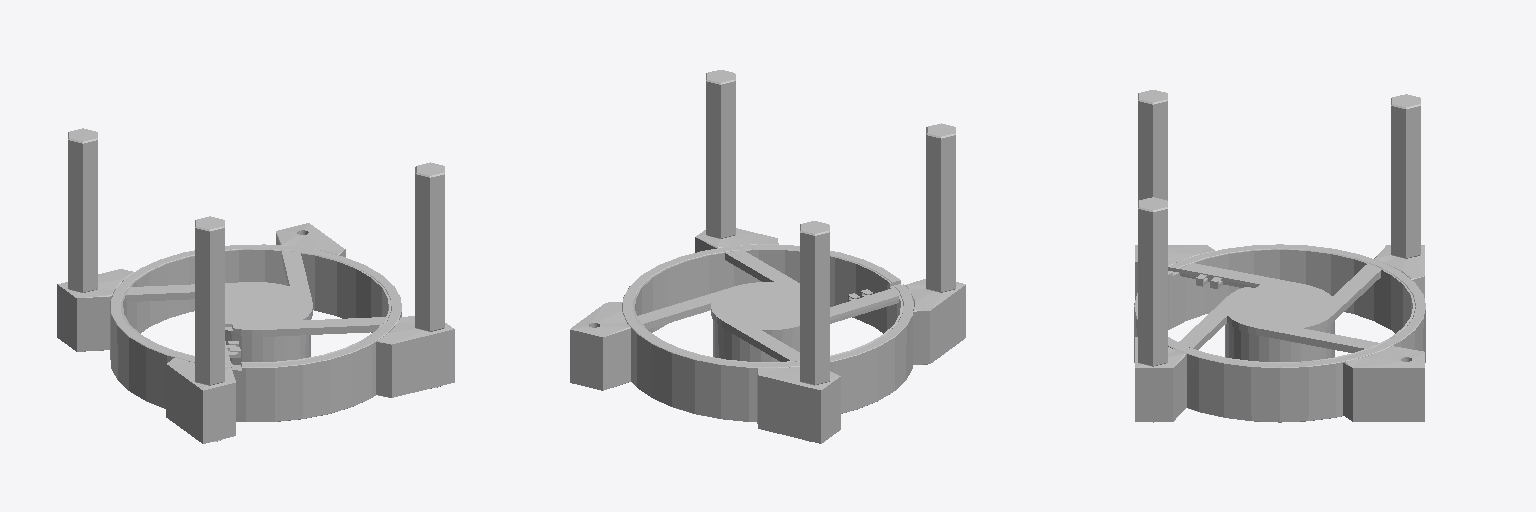
Rendered from Fan housing.obj.
The picture shows the model from 3 angles: view 1: azimuth 30°, elevation 25°; view 2: azimuth 150°, elevation 25°; view 3: azimuth 270°, elevation 25°; orthographic projection.
Parts seen in each view (by area): view 1: Fan_housing_Cylinder.011; view 2: Fan_housing_Cylinder.011; view 3: Fan_housing_Cylinder.011.
Part boxes in pixels (bbox=[...]): Fan_housing_Cylinder.011: bbox=[57, 128, 454, 443]; Fan_housing_Cylinder.011: bbox=[570, 70, 965, 443]; Fan_housing_Cylinder.011: bbox=[1134, 90, 1425, 422].
Bounding box in the file's own units: 0.0452 × 0.0362 × 0.0452.